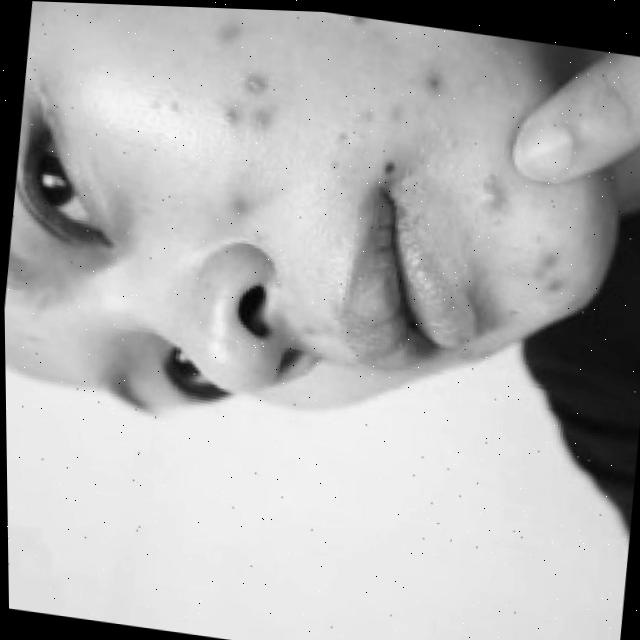Acne: (174, 6, 602, 309)
